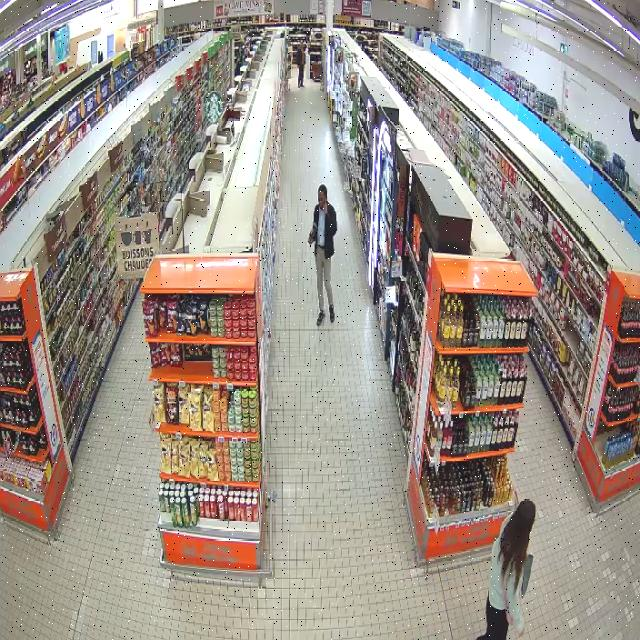article: (309, 225, 318, 240)
hands: (322, 202, 328, 214), (517, 628, 524, 637), (307, 238, 314, 245)
person: (476, 499, 535, 639), (307, 184, 336, 326)
